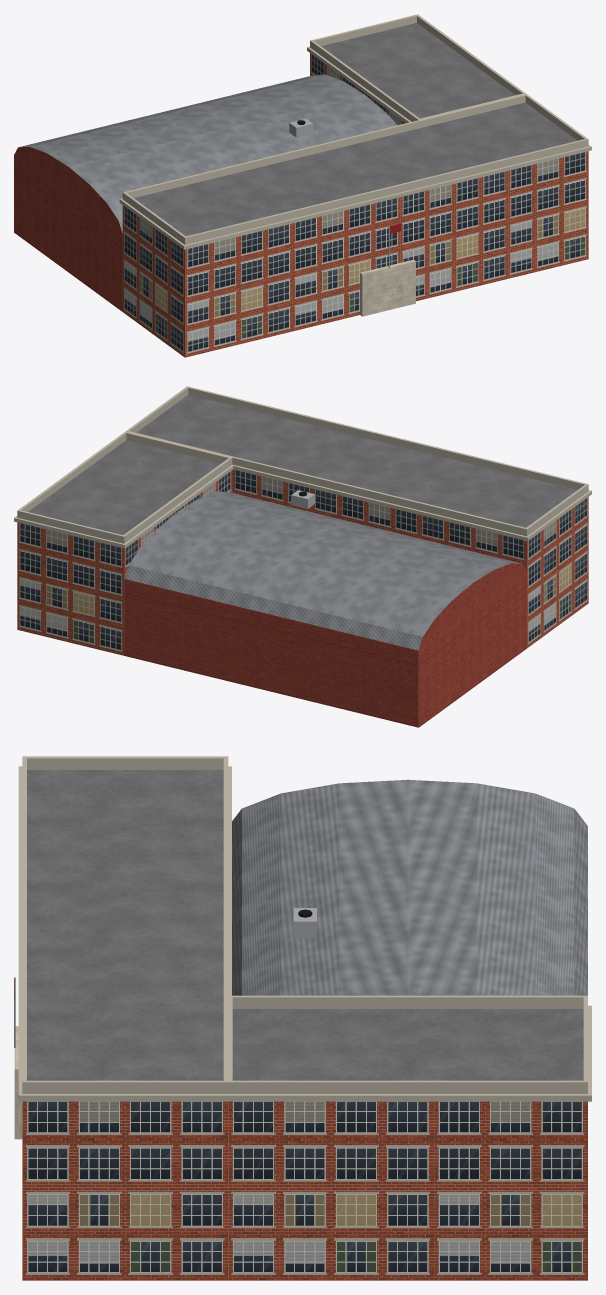
File: 078_school_gym.glb
The picture shows the model from 3 angles, top to bottom: view 1: azimuth 30°, elevation 25°; view 2: azimuth 150°, elevation 25°; view 3: azimuth 270°, elevation 25°; orthographic projection. The views are drawn at different scales.
Parts seen in each view (by area): view 1: 078_school_gym; view 2: 078_school_gym; view 3: 078_school_gym.
Boxes of the visible parts, bbox=[...] form: 078_school_gym: bbox=[14, 14, 591, 357]; 078_school_gym: bbox=[14, 386, 591, 727]; 078_school_gym: bbox=[14, 756, 591, 1280].
Bounding box in the file's own units: 60.6 × 17.6 × 44.96.
11 materials, 5 textured.
